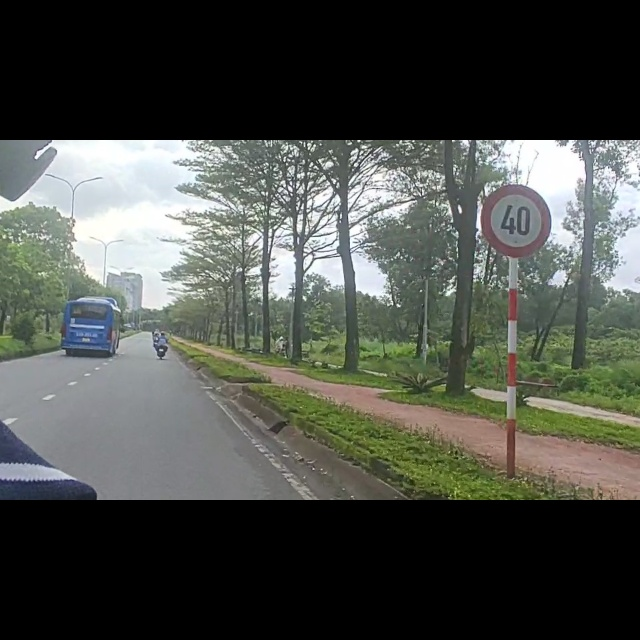Tốc độ tối đa cho phép 40km/h: (481, 183, 552, 259)
